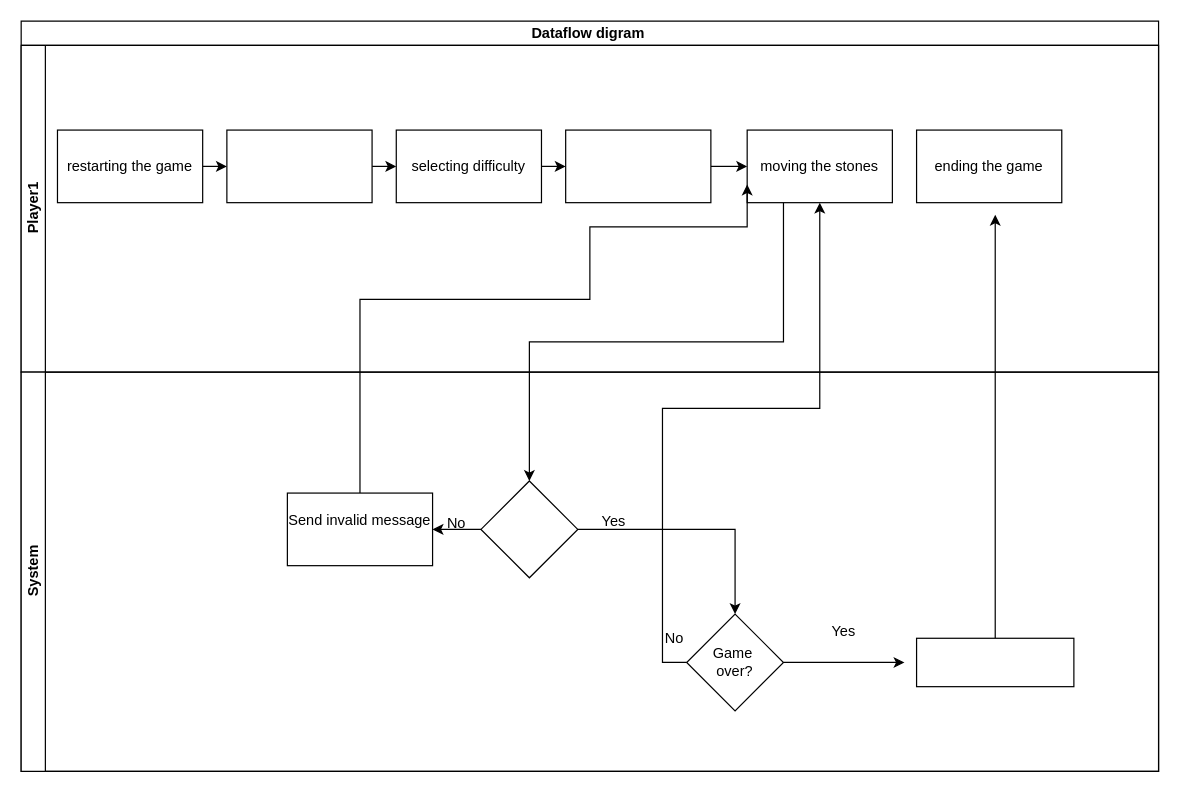
The diagram is 1180 pixels wide and 793 high, and some of its shapes have lost their labels. Here are the shapes that lost their labels. From the top down, the centre of each, then its label:
At point 299,166: "selecting # of players".
At point 637,166: "placing the stones".
At point 529,529: "Is move valid?".
At point 994,662: "sending result message with(win, lose or draw)".
